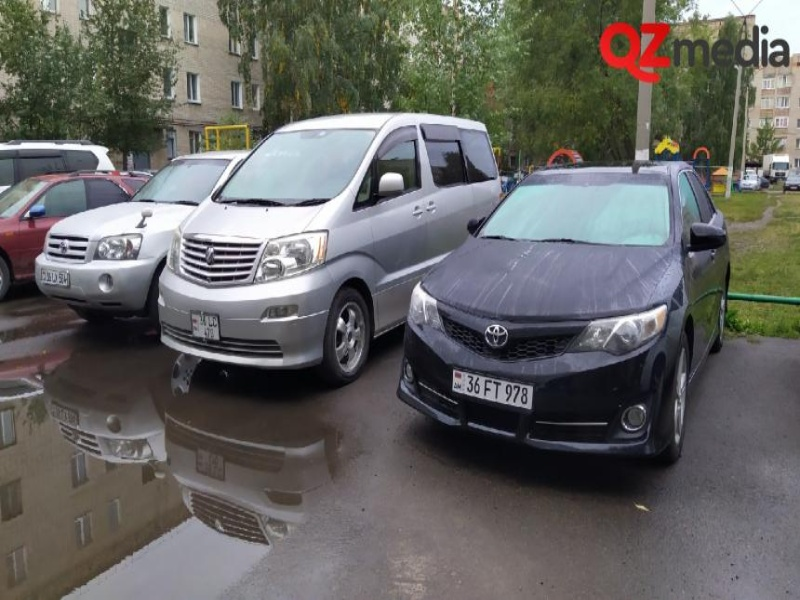car: (395, 163, 732, 465), (159, 111, 502, 380), (35, 150, 251, 322), (1, 171, 154, 299), (1, 138, 117, 196), (760, 153, 790, 180), (740, 175, 759, 189), (784, 175, 800, 191)
plate: (452, 368, 533, 409), (190, 310, 219, 343), (40, 268, 69, 288)
